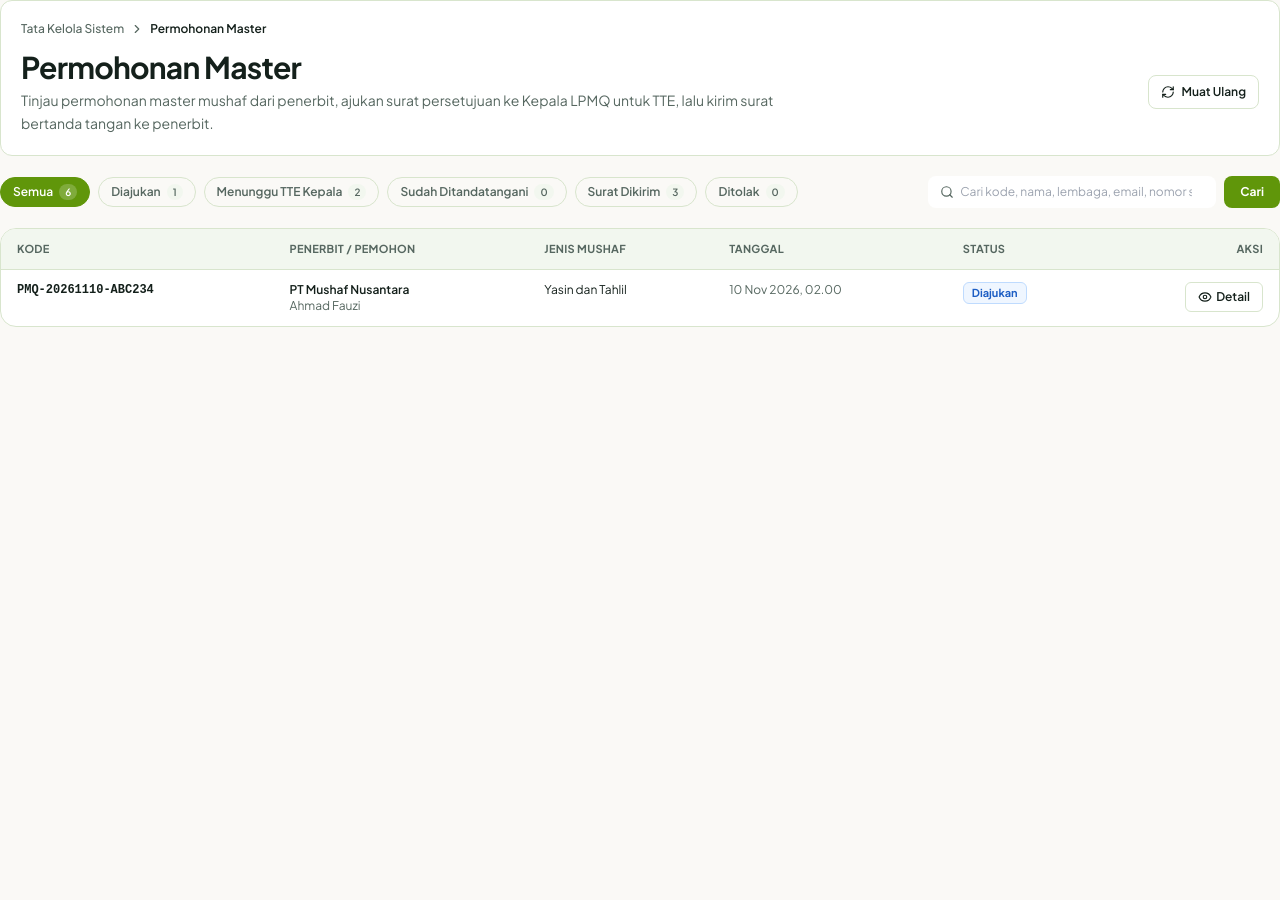
Test case: AdminMasterRequestsPage › admin menyusun surat persetujuan lalu mengajukannya ke Kepala untuk TTE
Click the button with aria-label "Lihat detail permohonan PMQ-20261110-ABC234" at (1224,296), box [1185,282,1263,312]
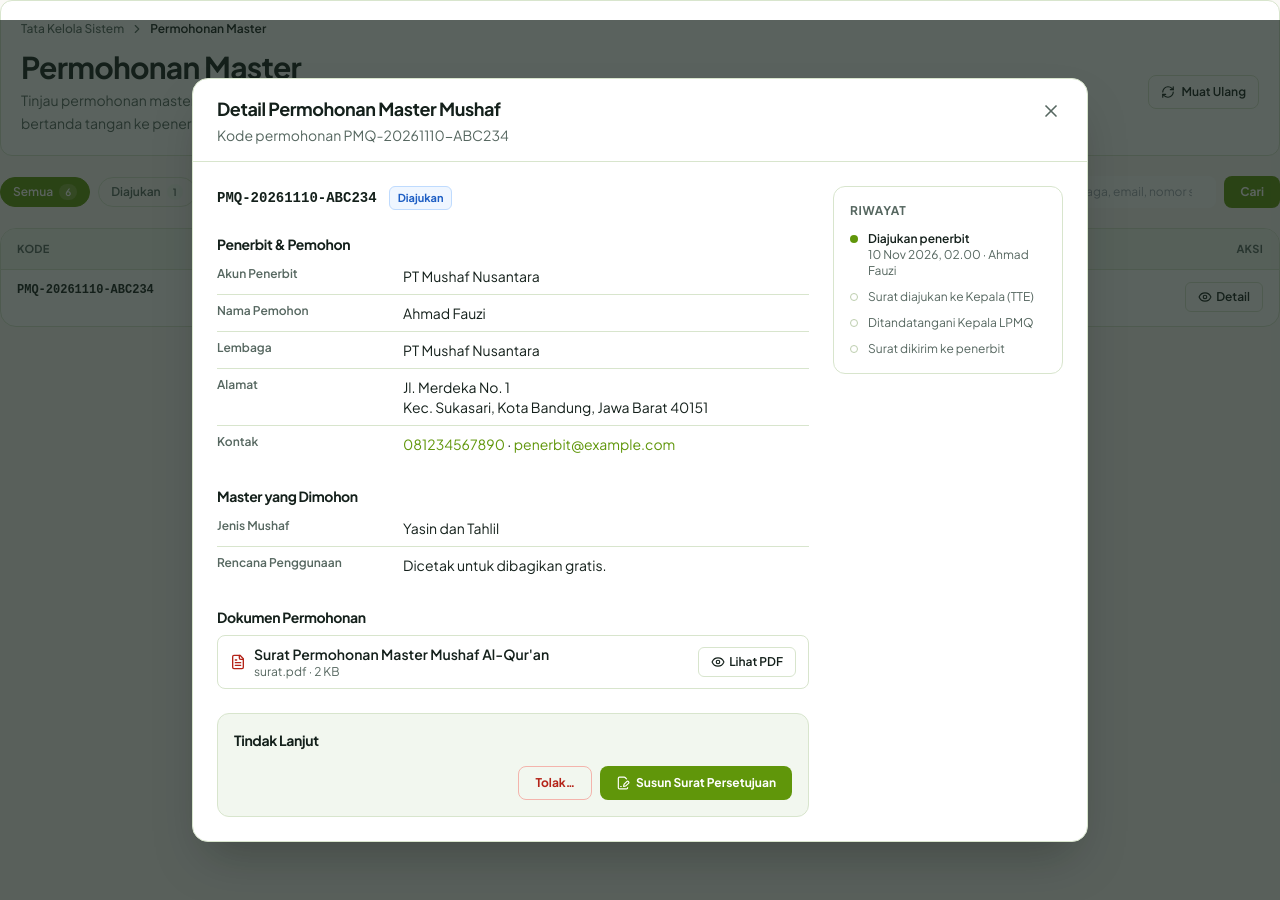
Expected: the link "penerbit@example.com" is shown, [514,435,675,453]
Click the button "Susun Surat Persetujuan" at (696,783), box [600,766,792,800]
(page scrolled)
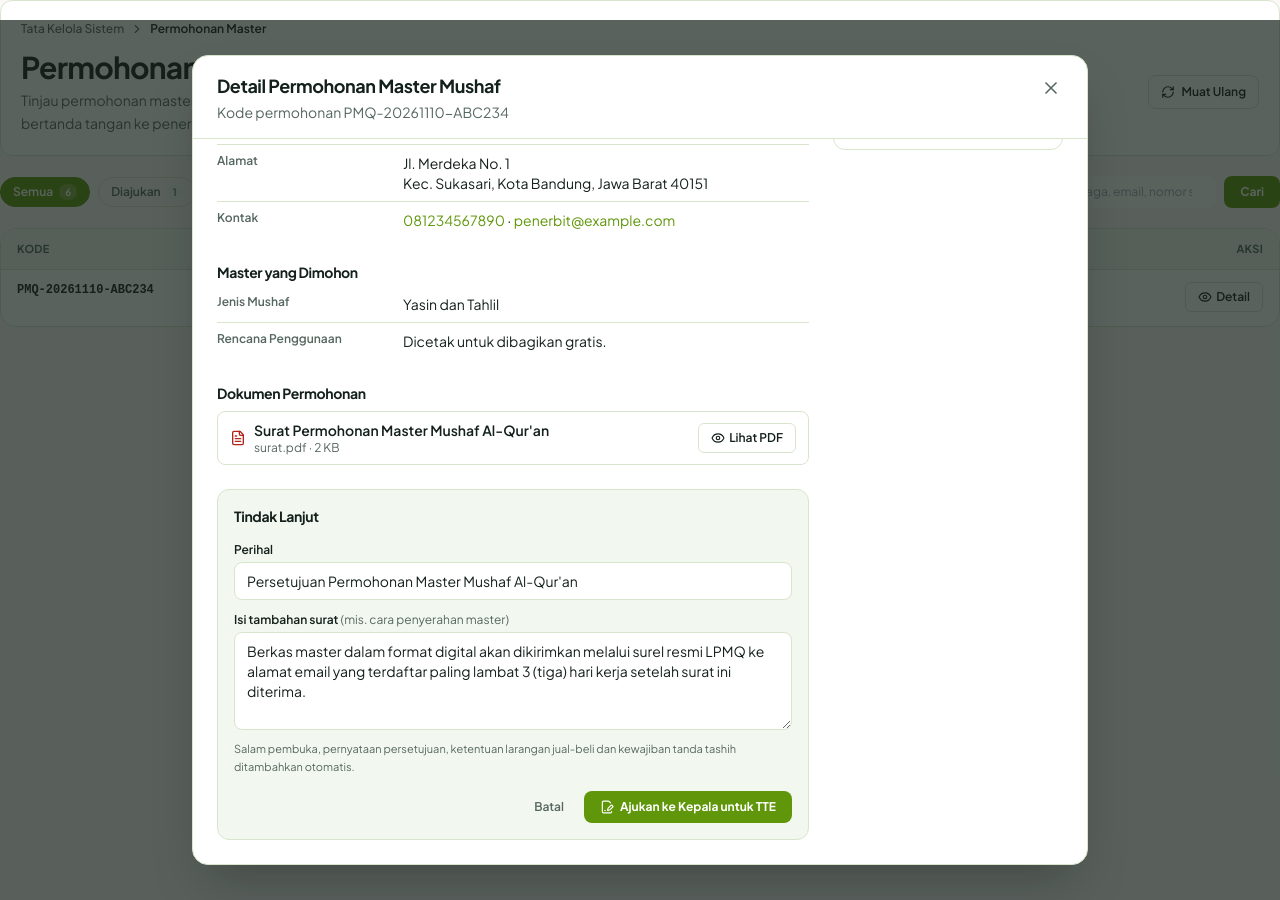
Replace the text in the text box labelled "Isi tambahan surat (mis. cara penyerahan master)" with "Master dikirim melalui surel resmi LPMQ." at (513,681), box [234,632,792,730]
Click the button "Ajukan ke Kepala untuk TTE" at (688,807), box [584,791,792,823]
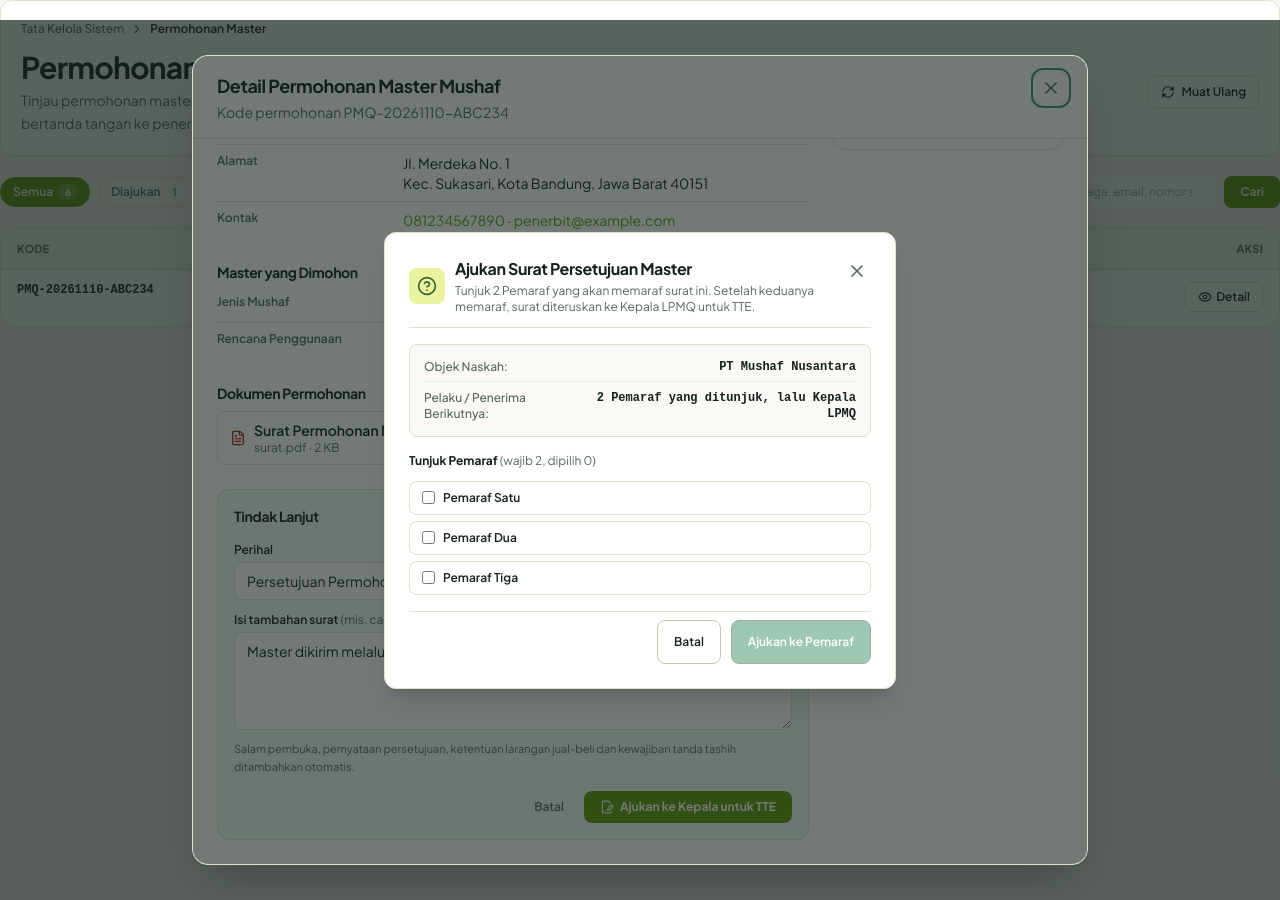
Click the checkbox labelled "Pemaraf Satu" at (428,498), box [422,491,435,504]
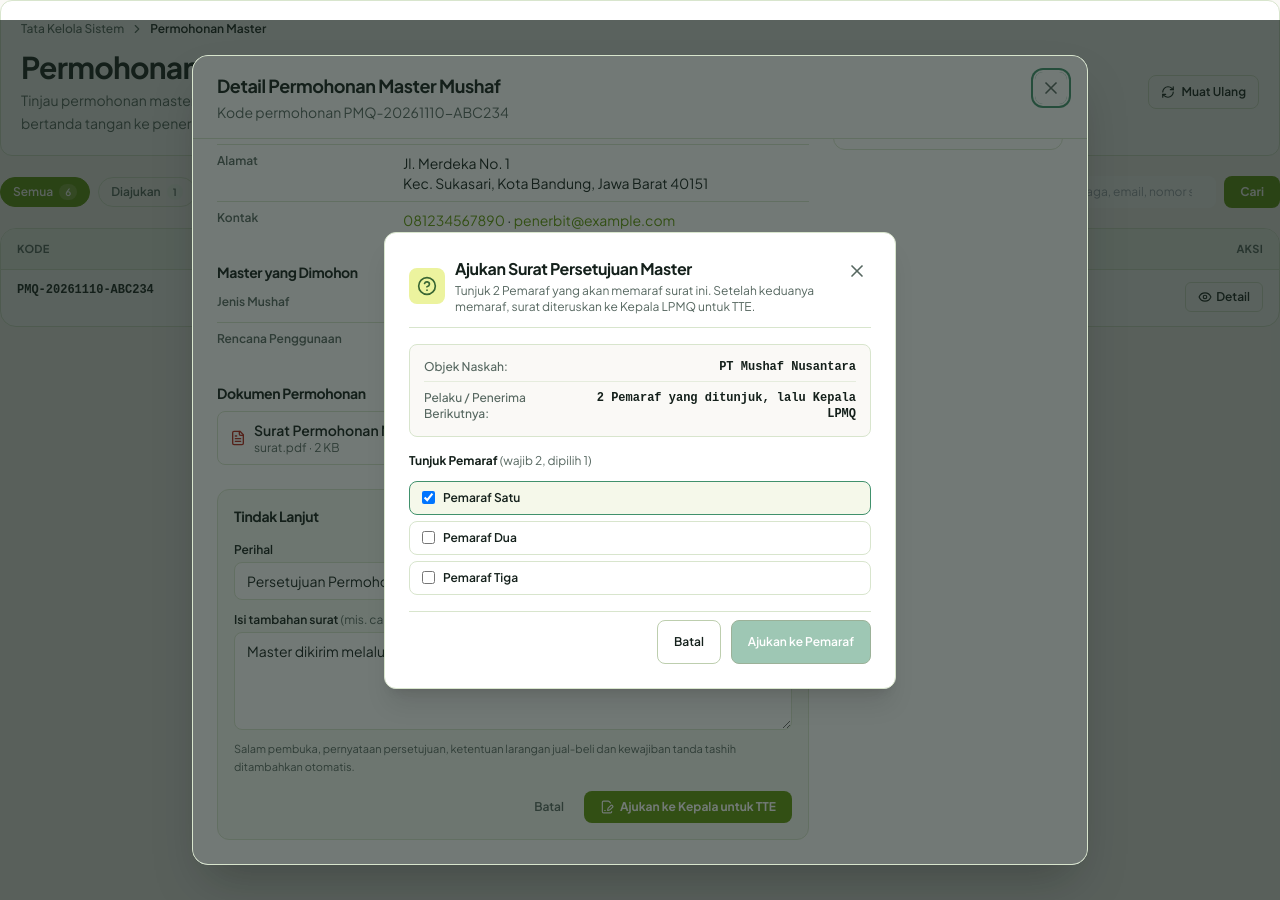
Expected: the button "Ajukan ke Pemaraf" is disabled, [731,620,871,664]
Click the checkbox labelled "Pemaraf Tiga" at (428,578), box [422,571,435,584]
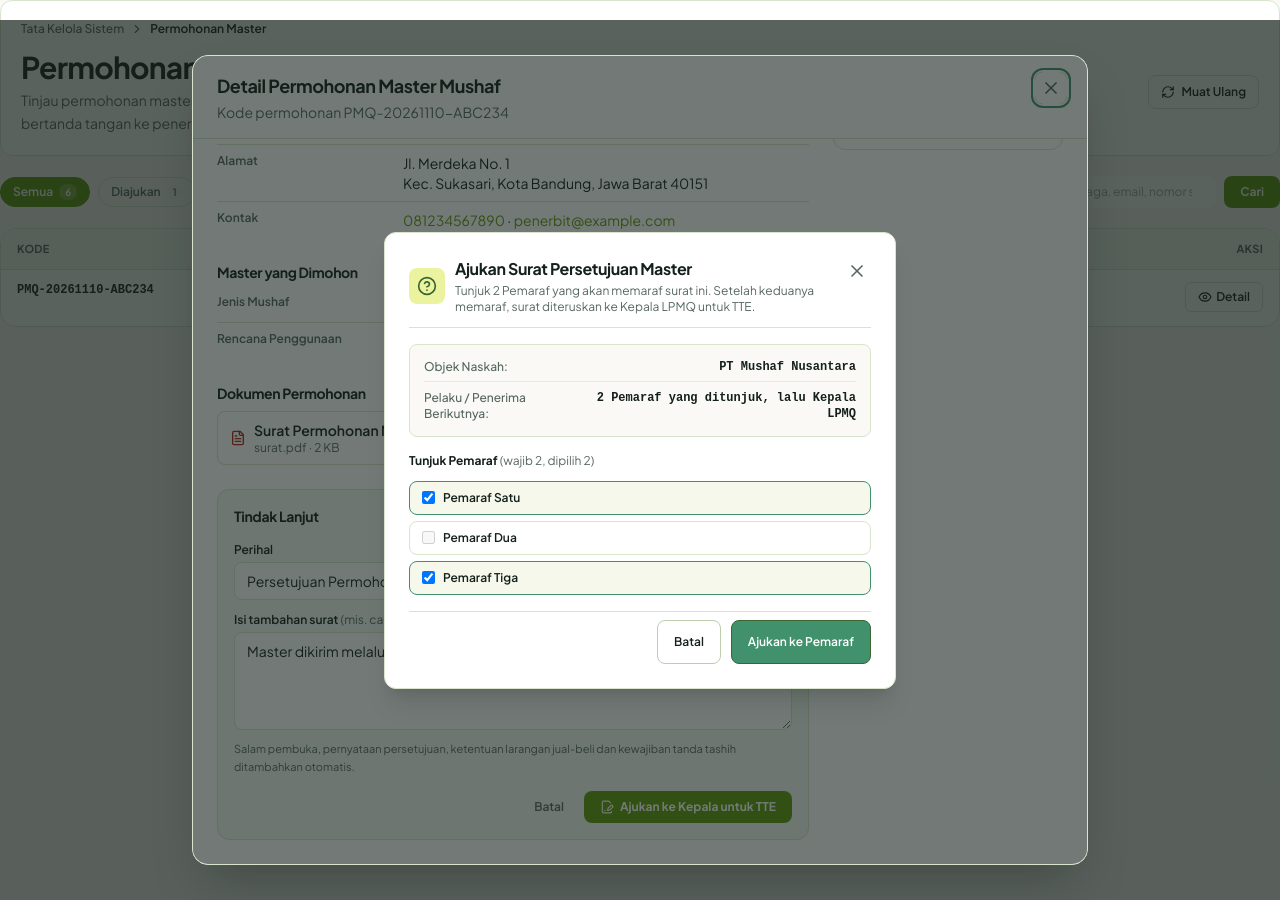
Expected: the checkbox labelled "Pemaraf Dua" is disabled, [422,531,435,544]
Click the button "Ajukan ke Pemaraf" at (801,642), box [731,620,871,664]
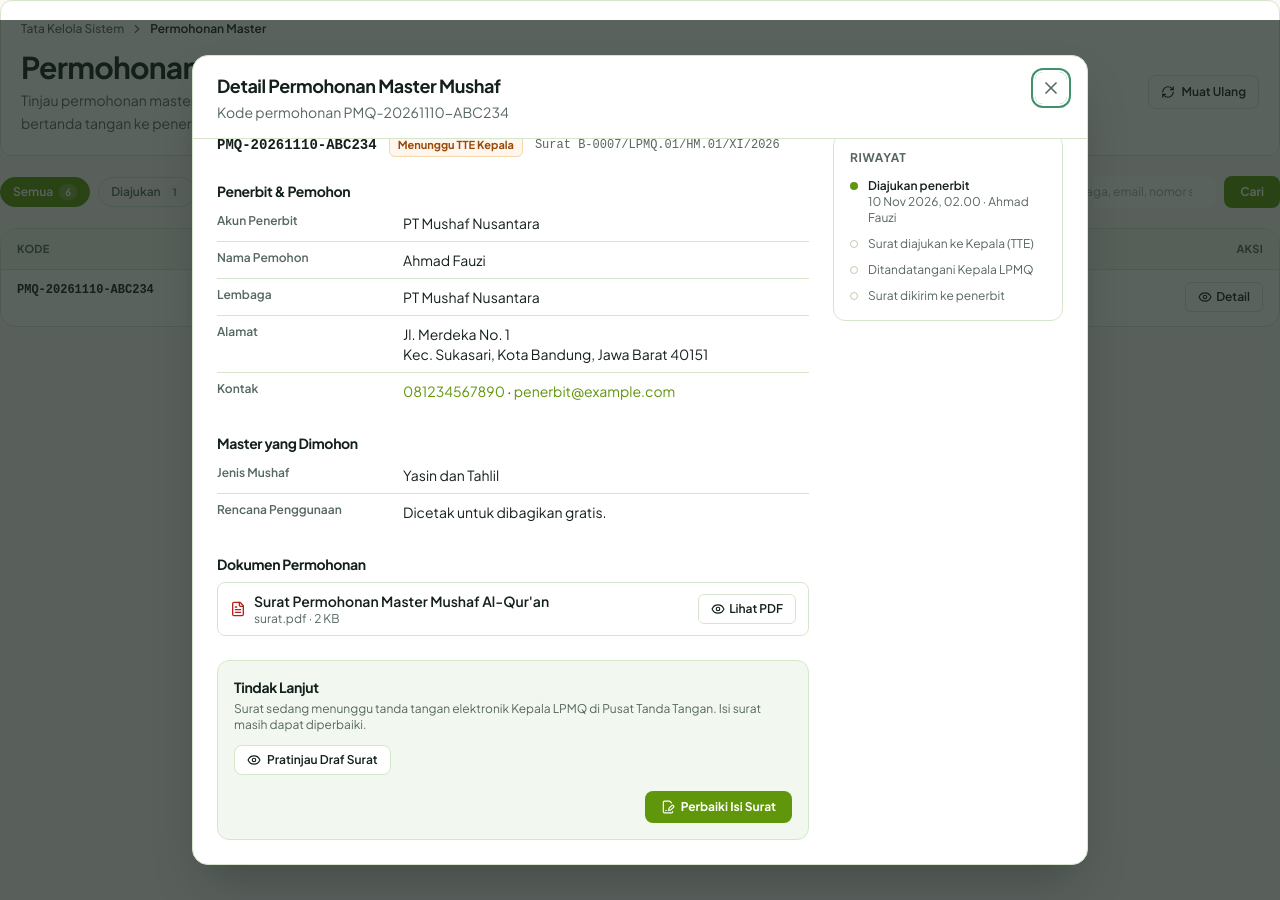
Expected: the text "menunggu tanda tangan elektronik Kepala LPMQ" is shown, [234,701,761,732]
Expected: the button "Pratinjau Draf Surat" is shown, [234,745,391,775]
